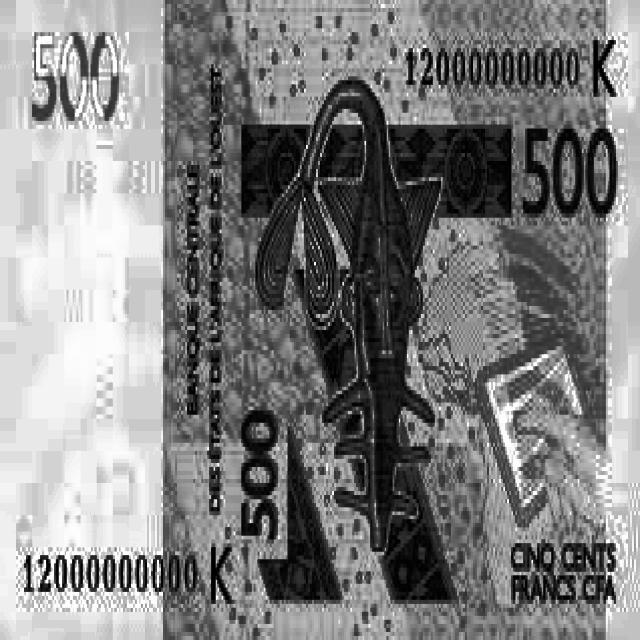teemeer: (0, 2, 640, 638)
